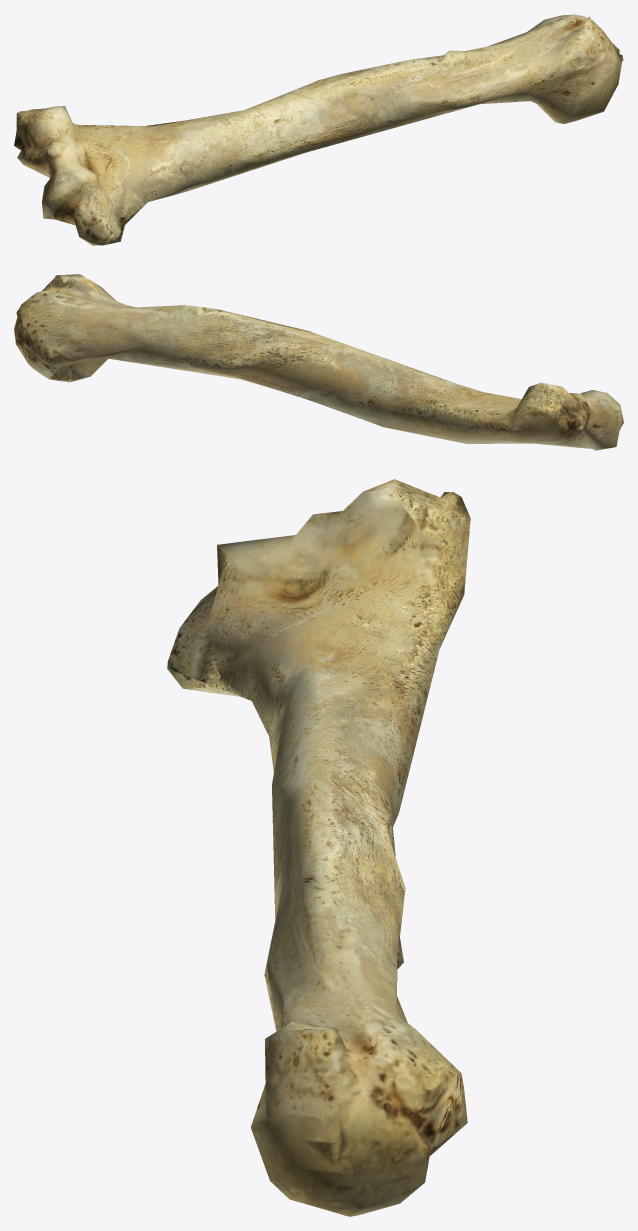
Rendered from Human_Humerus_Bone.fbx.
3 renders of one model, top to bottom at view 1: azimuth 30°, elevation 25°; view 2: azimuth 150°, elevation 25°; view 3: azimuth 270°, elevation 25°, orthographic. The views are drawn at different scales.
Visible parts, largest first — view 1: Human_Humerus_Bone_LOD0; view 2: Human_Humerus_Bone_LOD0; view 3: Human_Humerus_Bone_LOD0.
Part boxes in pixels (bbox=[...]): Human_Humerus_Bone_LOD0: bbox=[14, 14, 623, 245]; Human_Humerus_Bone_LOD0: bbox=[14, 274, 623, 450]; Human_Humerus_Bone_LOD0: bbox=[167, 479, 470, 1216].
Size of what is drawn, in the model's own units: 68.76 by 13.77 by 15.64.
1 material, 1 textured.
